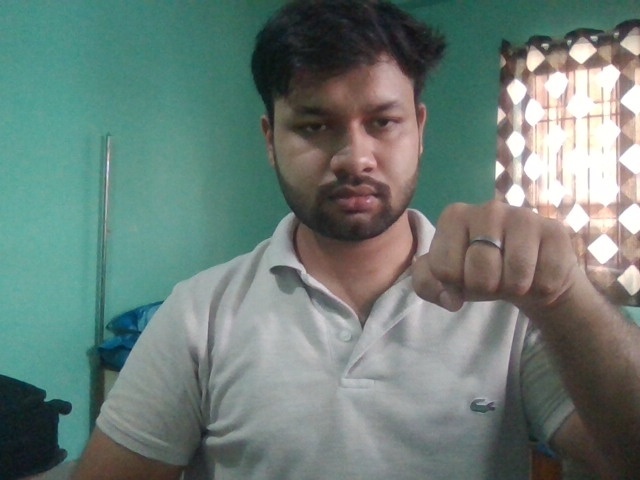Yes: (407, 201, 576, 330)
